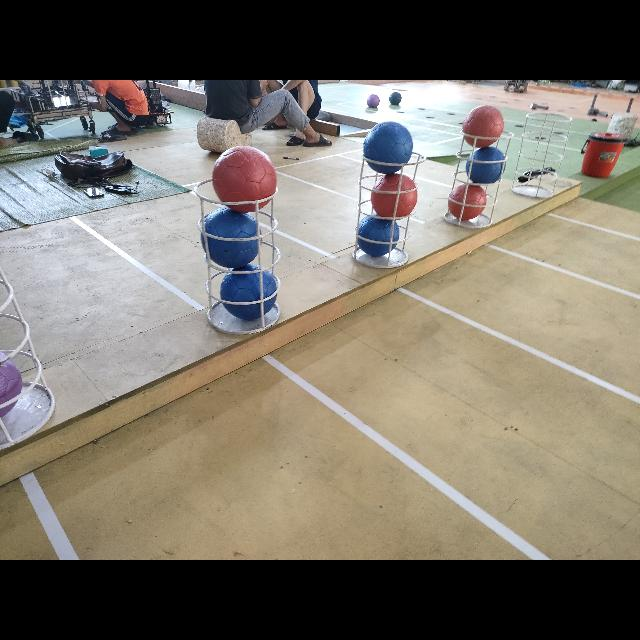B: (200, 206, 262, 268), (220, 263, 278, 321), (363, 120, 413, 174), (354, 212, 400, 258), (466, 148, 506, 185)
R: (213, 145, 277, 213), (370, 173, 422, 219), (462, 106, 504, 148), (448, 183, 488, 223)
